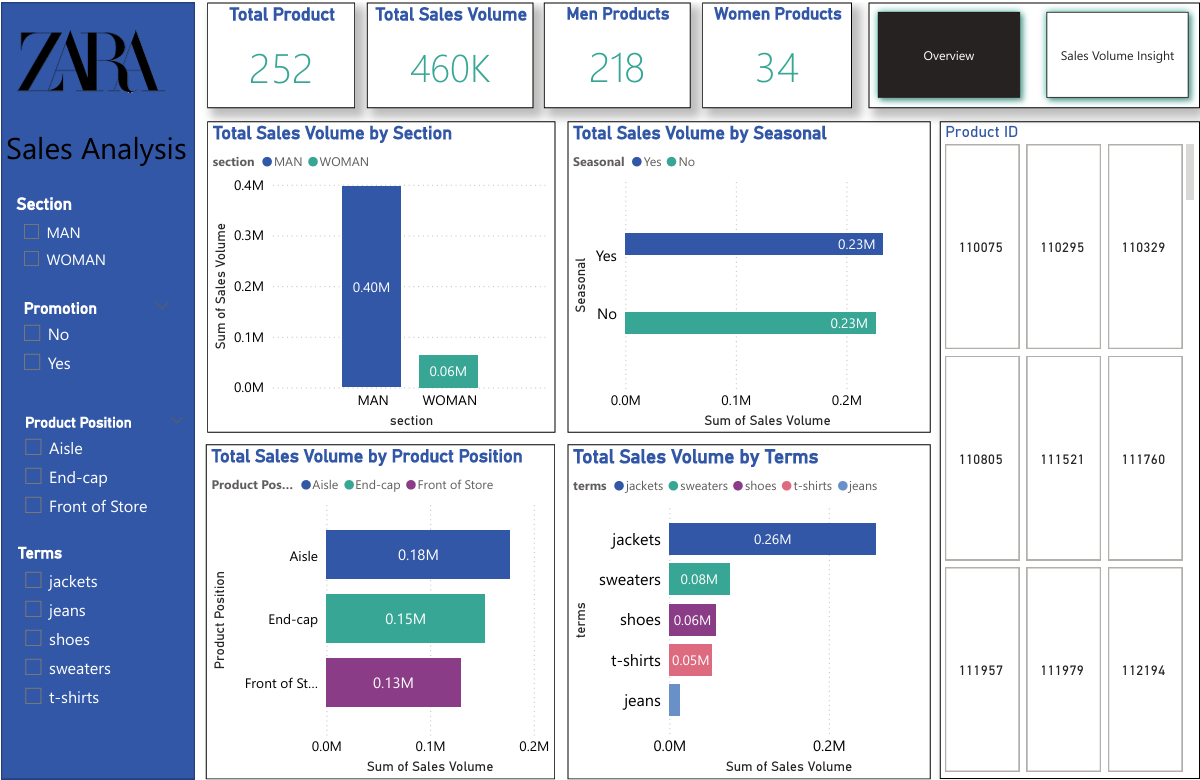

The page's visual inventory and layout, read from the dashboard file:
{"tool":"powerbi","page":{"name":"Overview","canvas":[1280,830],"ordinal":0},"visuals":[{"type":"card","title":"Total Product ","fields":{"Values":["CountNonNull(zara.Product ID)"]},"box":[220,0,158.3,113.3],"z":0},{"type":"barChart","title":"Total Sales Volume by Product Position","fields":{"Y":["Sum(zara.Sales Volume)"],"Category":["zara.Product Position"],"Series":["zara.Product Position"]},"box":[218.3,471.7,373.3,358.3],"z":1000},{"type":"card","title":"Total Sales Volume","fields":{"Values":["Sum(zara.Sales Volume)"]},"box":[390,0,178.3,113.3],"z":2000},{"type":"card","title":"Men Products","fields":{"Values":["CountNonNull(zara.section)"]},"box":[580,0,156.7,113.3],"z":3000},{"type":"barChart","title":"Total Sales Volume by Terms","fields":{"Y":["Sum(zara.Sales Volume)"],"Category":["zara.terms"],"Series":["zara.terms"]},"box":[605,471.7,388.3,358.3],"z":4000},{"type":"card","title":"Women Products","fields":{"Values":["CountNonNull(zara.section)"]},"box":[748.3,0,160,113.3],"z":5000},{"type":"shape","box":[0,0,206.7,830],"z":6000},{"type":"textbox","box":[0,126.7,220,105],"z":7000},{"type":"image","box":[13.3,0,168.3,126.7],"z":8000},{"type":"clusteredBarChart","title":"Total Sales Volume by Seasonal","fields":{"Category":["zara.Seasonal"],"Y":["Sum(zara.Sales Volume)"],"Series":["zara.Seasonal"]},"box":[605,126.7,388.3,333.3],"z":9000},{"type":"columnChart","title":"Total Sales Volume by Section ","fields":{"Category":["zara.section"],"Y":["Sum(zara.Sales Volume)"],"Series":["zara.section"]},"box":[220,126.7,371.7,333.3],"z":10000},{"type":"advancedSlicerVisual","fields":{"Values":["zara.Product ID"]},"box":[1001.7,126.7,278.3,703.3],"z":11000},{"type":"pageNavigator","box":[926.1,0,353.8,112.8],"z":12000},{"type":"slicer","title":"Section","fields":{"Values":["zara.section"]},"box":[11.3,204.4,183.3,88.8],"z":13000},{"type":"slicer","fields":{"Values":["zara.Promotion"]},"box":[11.3,311.5,180.4,102.9],"z":14000},{"type":"slicer","fields":{"Values":["zara.Product Position"]},"box":[12.7,434.2,194.5,126.9],"z":15000},{"type":"slicer","title":"Terms","fields":{"Values":["zara.terms"]},"box":[12.7,578,195.9,205.8],"z":16000}]}

Visuals, with their boxes in screenshot pixels (x1, y1, x2, y2), scaled from the page's 1280x830 canvas onto the 1200x780 screenshot:
"Total Product " card: BBox(206, 0, 355, 106)
"Total Sales Volume by Product Position" barChart: BBox(205, 443, 555, 779)
"Total Sales Volume" card: BBox(366, 0, 533, 106)
"Men Products" card: BBox(544, 0, 691, 106)
"Total Sales Volume by Terms" barChart: BBox(567, 443, 931, 779)
"Women Products" card: BBox(702, 0, 852, 106)
shape: BBox(0, 0, 194, 779)
textbox: BBox(0, 119, 206, 218)
image: BBox(12, 0, 170, 119)
"Total Sales Volume by Seasonal" clusteredBarChart: BBox(567, 119, 931, 432)
"Total Sales Volume by Section " columnChart: BBox(206, 119, 555, 432)
advancedSlicerVisual - zara.Product ID: BBox(939, 119, 1199, 779)
pageNavigator: BBox(868, 0, 1199, 106)
"Section" slicer: BBox(11, 192, 182, 276)
slicer - zara.Promotion: BBox(11, 293, 180, 389)
slicer - zara.Product Position: BBox(12, 408, 194, 527)
"Terms" slicer: BBox(12, 543, 196, 737)
